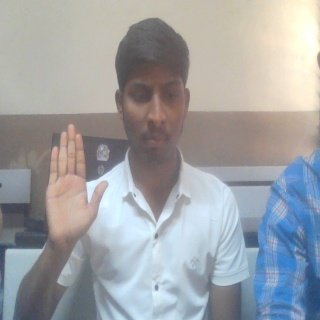Face: (112, 16, 192, 172)
Hello: (42, 122, 110, 251)
